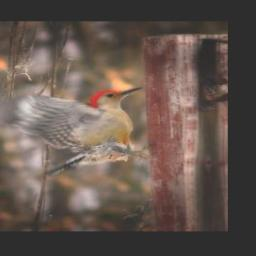Woodpecker: (0, 85, 144, 176)
